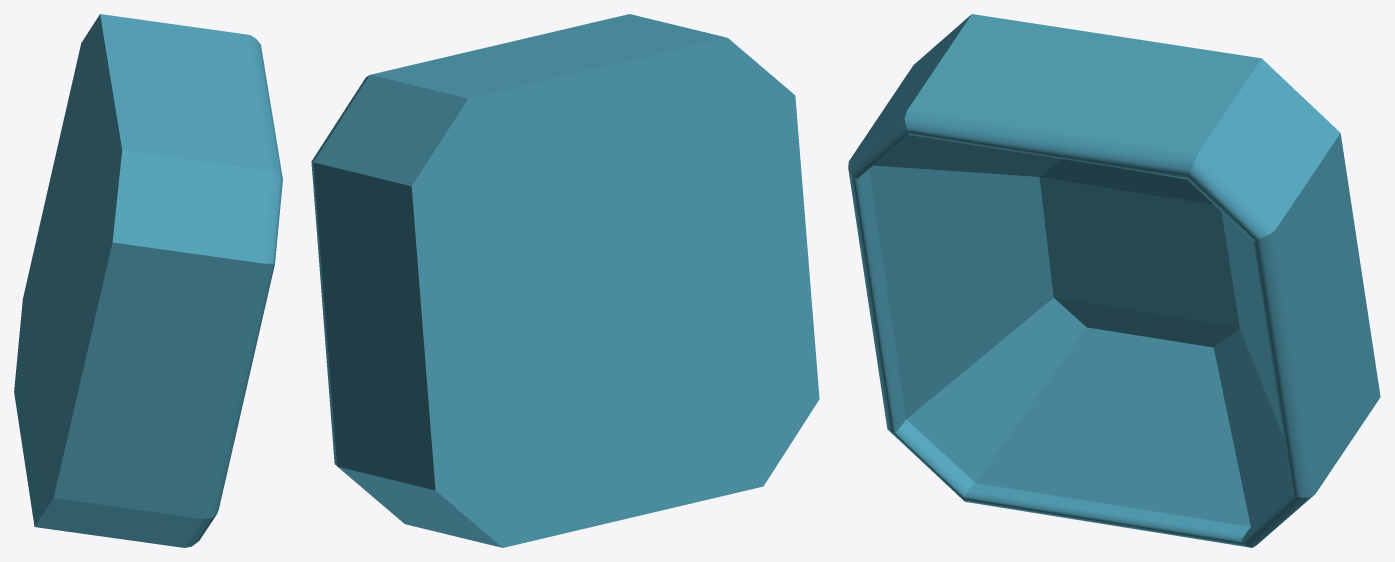
The model's file is TR4_8shapes_Square_Classic_Metal.001 3.glb.
The picture shows the model from 3 angles, left to right: view 1: azimuth 30°, elevation 25°; view 2: azimuth 150°, elevation 25°; view 3: azimuth 270°, elevation 25°; orthographic projection. The views are drawn at different scales.
Parts seen in each view (by area): view 1: TR4_8shapes_Square_Classic_Metal.001; view 2: TR4_8shapes_Square_Classic_Metal.001; view 3: TR4_8shapes_Square_Classic_Metal.001.
Part boxes in pixels (left/top/right/bottom): TR4_8shapes_Square_Classic_Metal.001: left=14, top=14, right=282, bottom=547; TR4_8shapes_Square_Classic_Metal.001: left=311, top=14, right=819, bottom=547; TR4_8shapes_Square_Classic_Metal.001: left=848, top=14, right=1380, bottom=547.
Size of the model in its own units: 0.4368 by 0.5357 by 0.5529.
